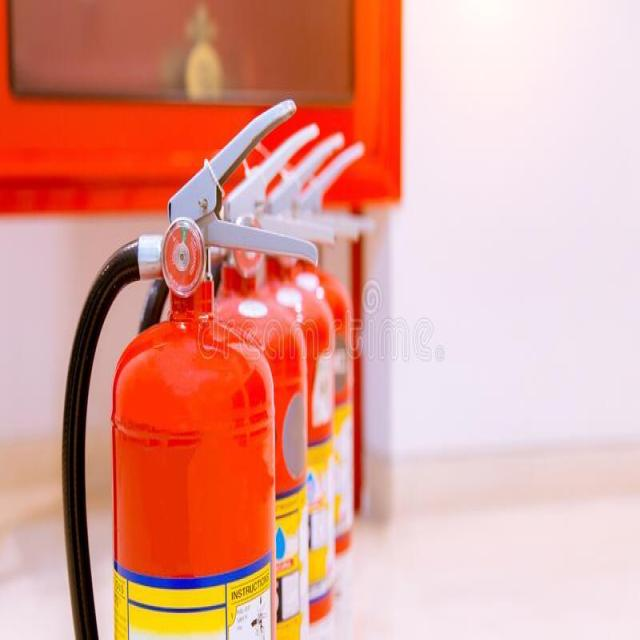fire_extinguisher: (54, 96, 323, 638)
